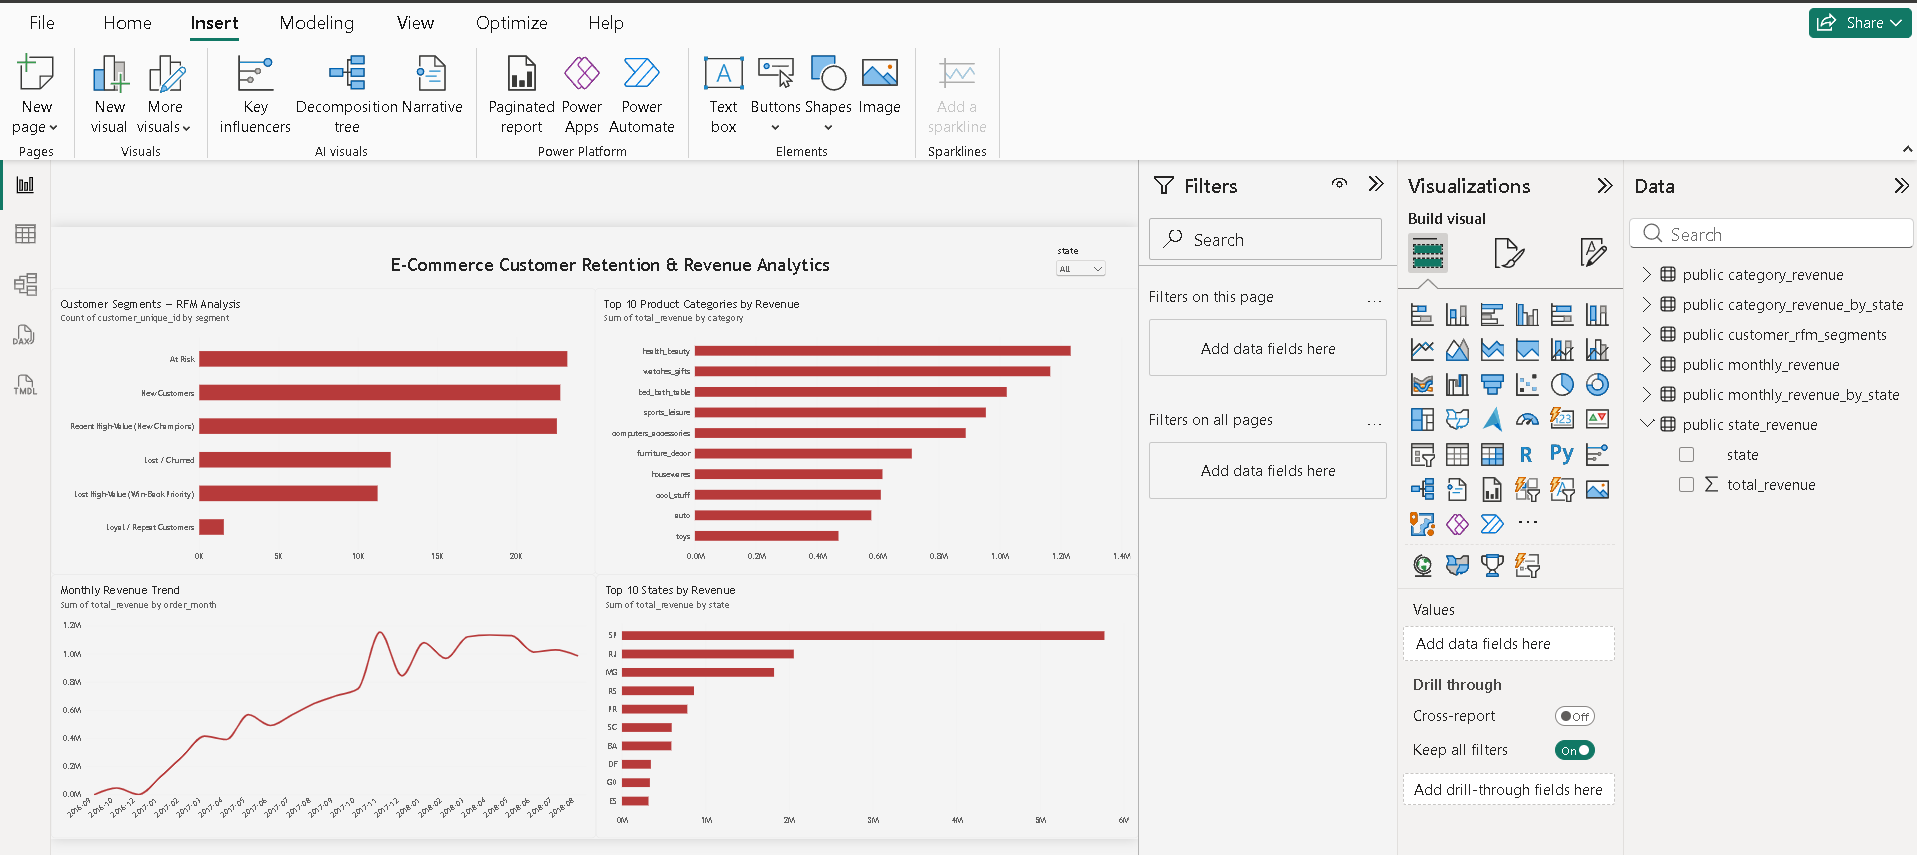

This screenshot's page, from the dashboard's own definition file:
{"tool":"powerbi","page":{"name":"Business Overview","canvas":[1920,1080],"ordinal":0},"visuals":[{"type":"clusteredBarChart","title":"Customer Segments — RFM Analysis","fields":{"Category":["public customer_rfm_segments.segment"],"Y":["CountNonNull(public customer_rfm_segments.customer_unique_id)"]},"box":[0,108.2,962.4,505.5],"z":0},{"type":"lineChart","title":"Monthly Revenue Trend","fields":{"Category":["public monthly_revenue_by_state.order_month"],"Y":["Sum(public monthly_revenue_by_state.total_revenue)"]},"box":[0,613.7,962.4,465.8],"z":1},{"type":"clusteredBarChart","title":"Top 10 Product Categories by Revenue","fields":{"Category":["public category_revenue_by_state.category"],"Y":["Sum(public category_revenue_by_state.total_revenue)"]},"box":[960.2,108.2,962.4,505.5],"z":2},{"type":"clusteredBarChart","title":"Top 10 States by Revenue","fields":{"Category":["public state_revenue.state"],"Y":["Sum(public state_revenue.total_revenue)"]},"box":[962.4,613.7,958,465.8],"z":3},{"type":"slicer","fields":{"Values":["public state_revenue.state"]},"box":[1770.3,30.9,97.1,77.3],"z":4},{"type":"textbox","box":[100,100,300,300],"z":5},{"type":"textbox","box":[558.5,46.4,1088.3,61.8],"z":6}]}

Visuals, with their boxes on the page's 1920x1080 design canvas (x1, y1, x2, y2). These are canvas units, not pixel positions in the 1917x855 screenshot, which may show the page scaled, cropped or inside an application window:
"Customer Segments — RFM Analysis" clusteredBarChart: 0/108/962/614
"Monthly Revenue Trend" lineChart: 0/614/962/1080
"Top 10 Product Categories by Revenue" clusteredBarChart: 960/108/1923/614
"Top 10 States by Revenue" clusteredBarChart: 962/614/1920/1080
slicer - public state_revenue.state: 1770/31/1867/108
textbox: 100/100/400/400
textbox: 558/46/1647/108
